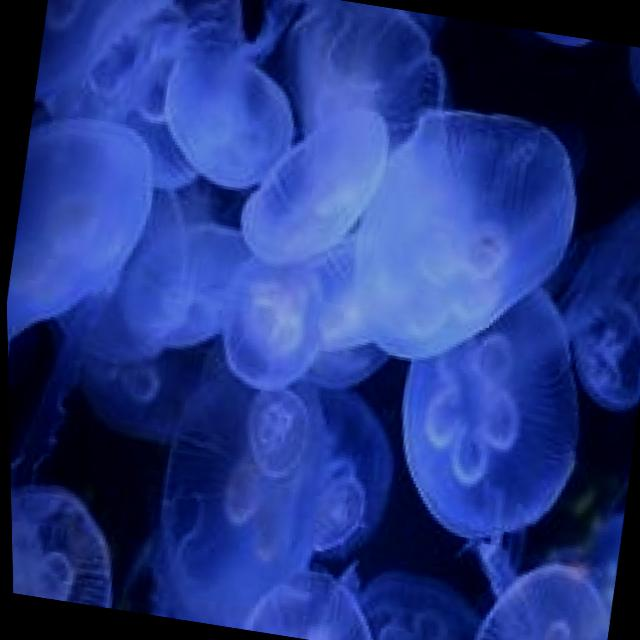Moon-jellyfish: (324, 92, 613, 387), (357, 280, 622, 570), (133, 336, 370, 638), (2, 111, 164, 427), (53, 167, 266, 394), (245, 0, 459, 167), (227, 80, 400, 280), (145, 12, 313, 200), (530, 178, 640, 415), (28, 0, 199, 137), (61, 328, 214, 451), (161, 346, 274, 492), (229, 547, 392, 640), (8, 480, 125, 608), (459, 551, 615, 640), (547, 482, 628, 640), (337, 561, 488, 640)
